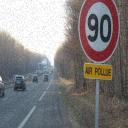speed_limit_90: (76, 0, 121, 66)
